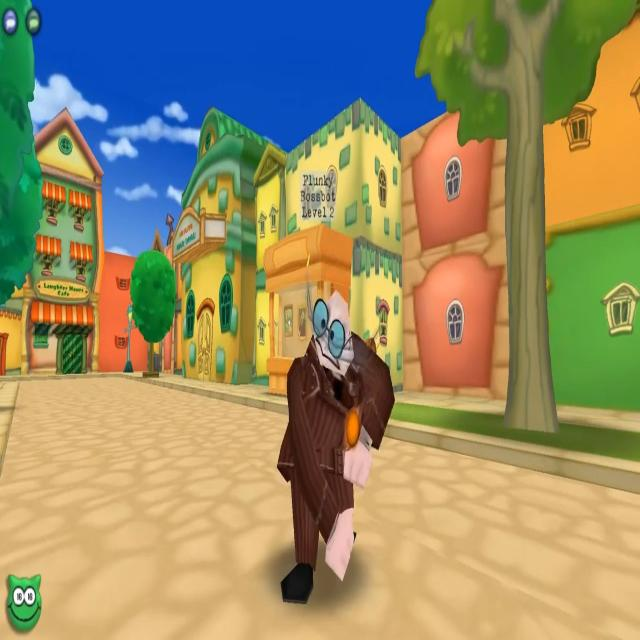flunky: (273, 178, 390, 604)
